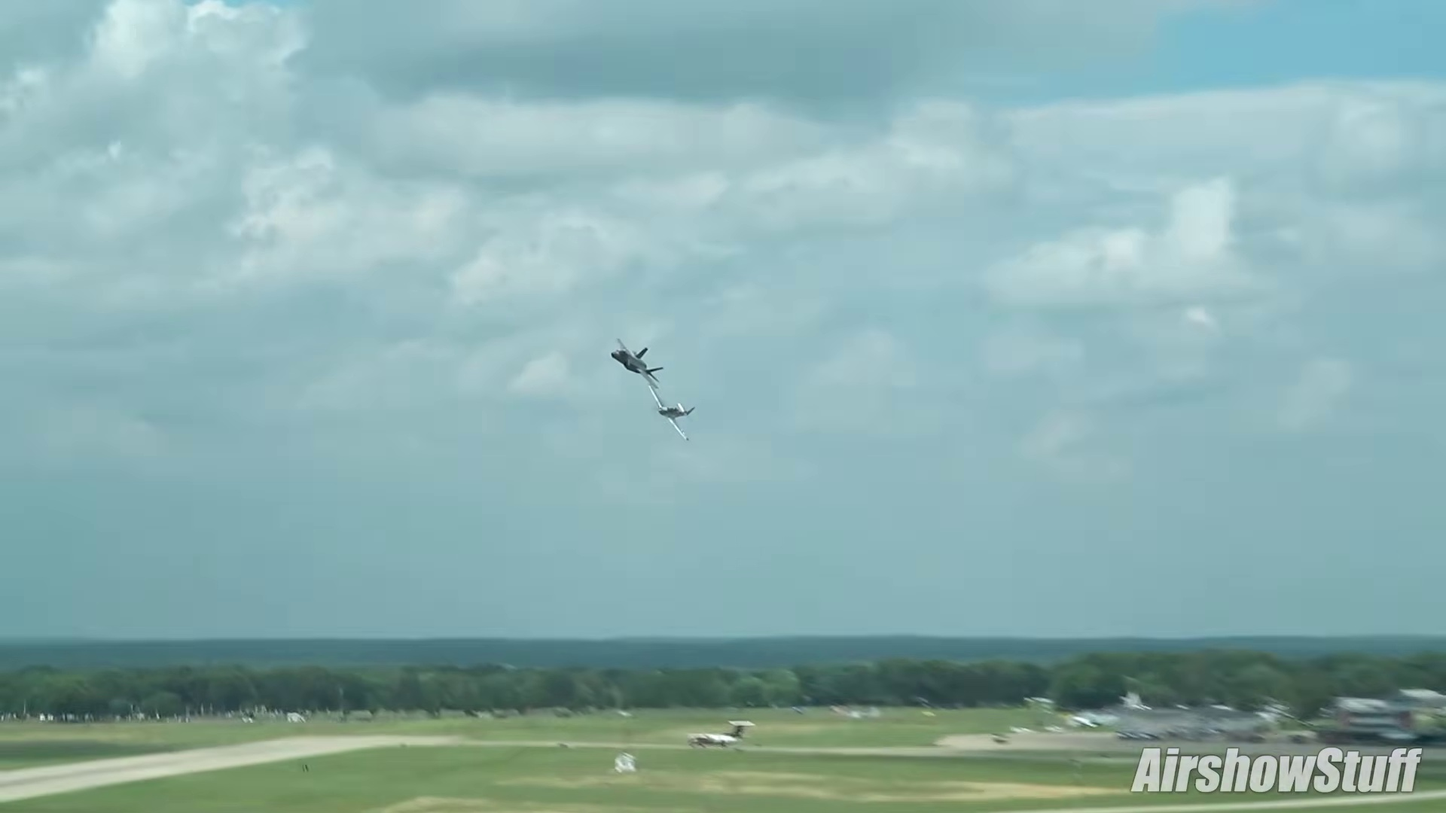F35: (602, 330, 670, 383)
